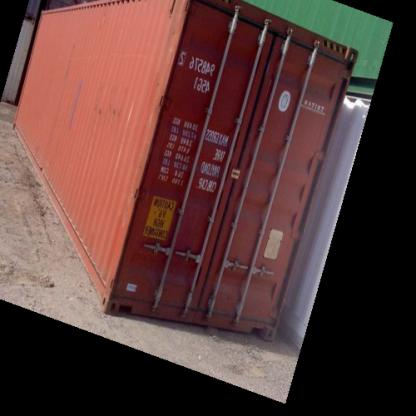Damage: (61, 83, 79, 134), (57, 37, 78, 79), (94, 98, 126, 124)
